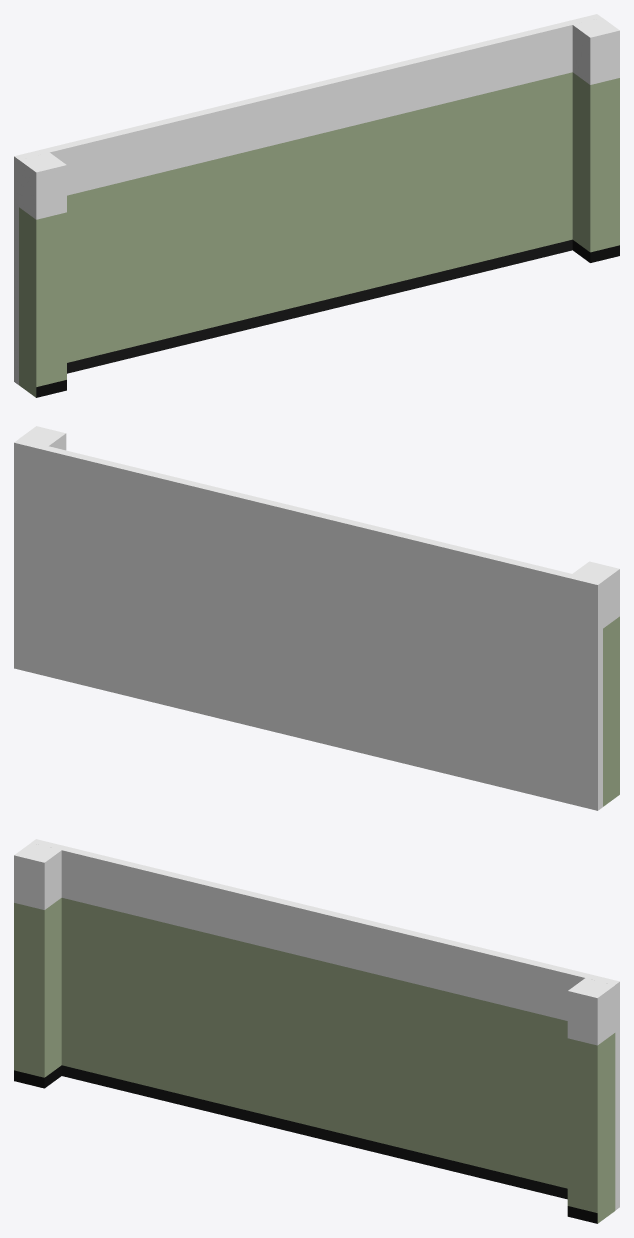
File: Wall 3.FBX
3 views of the same model, one above another, from view 1: azimuth 30°, elevation 25°; view 2: azimuth 150°, elevation 25°; view 3: azimuth 330°, elevation 25° (orthographic).
Visible parts, largest first — view 1: Wall 3; view 2: Wall 3; view 3: Wall 3.
Part boxes in pixels (x1,y1,x2,y2): Wall 3: (14, 14, 619, 397); Wall 3: (14, 426, 619, 810); Wall 3: (14, 839, 619, 1223).
Size of the model in its own units: 394 by 145 by 26.47.
